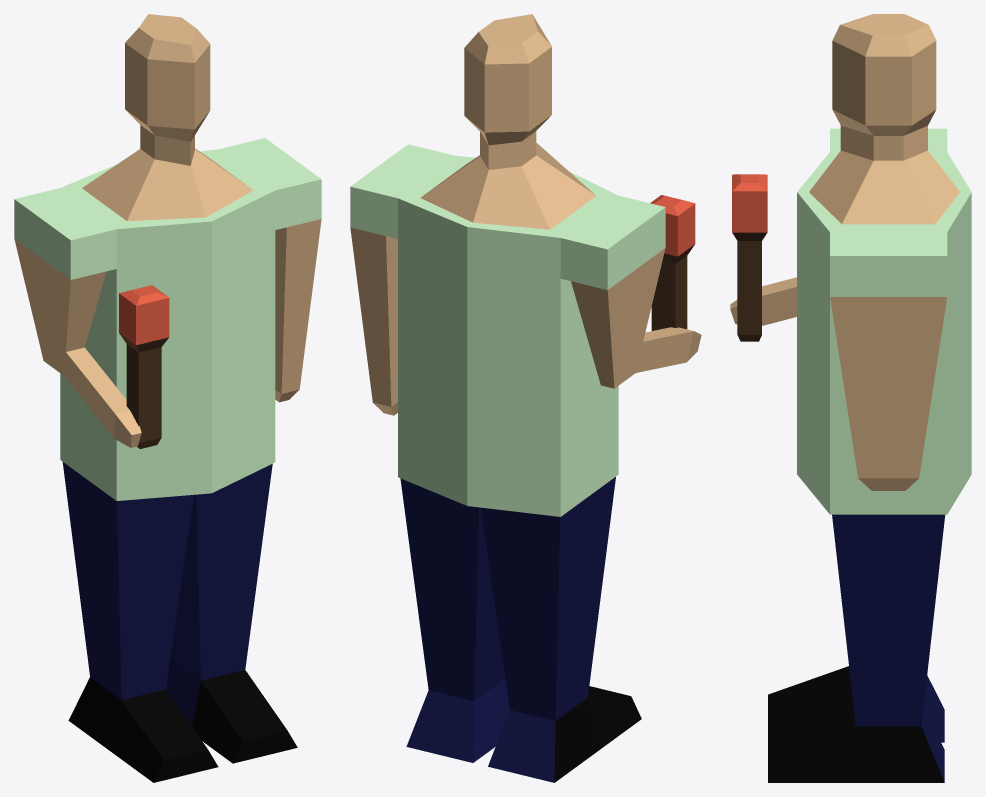
The picture shows the model from 3 angles, left to right: view 1: azimuth 30°, elevation 25°; view 2: azimuth 150°, elevation 25°; view 3: azimuth 270°, elevation 25°; orthographic projection. The views are drawn at different scales.
Parts seen in each view (by area): view 1: Upper, Lower, Torch; view 2: Upper, Lower, Torch; view 3: Upper, Lower, Torch.
Boxes of the visible parts, box(x1,y1,x2,y2) form: Upper: box(14, 14, 321, 500); Lower: box(62, 462, 297, 782); Torch: box(119, 285, 169, 448); Upper: box(350, 14, 701, 516); Lower: box(400, 477, 641, 782); Torch: box(650, 195, 695, 330); Upper: box(730, 14, 971, 514); Lower: box(768, 514, 945, 782); Torch: box(732, 174, 767, 341).
Bounding box in the file's own units: 3.16 × 8.37 × 2.54.
